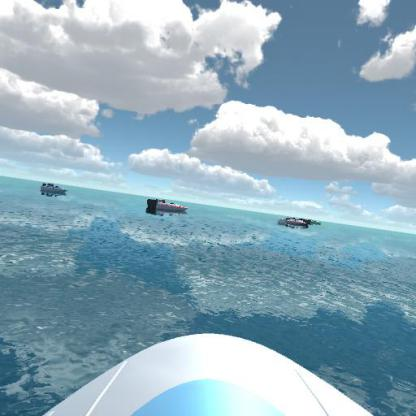usv0: (303, 216, 325, 228)
usv1: (40, 179, 71, 199)
usv3: (144, 194, 191, 215), (285, 214, 311, 233)
